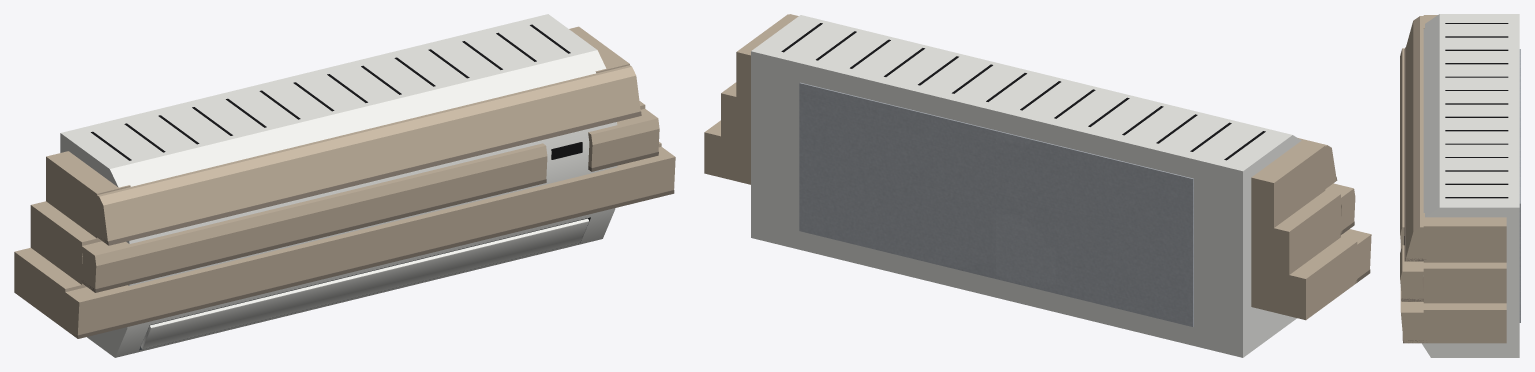
The picture shows the model from 3 angles, left to right: view 1: azimuth 30°, elevation 25°; view 2: azimuth 150°, elevation 25°; view 3: azimuth 270°, elevation 25°; orthographic projection. The views are drawn at different scales.
Parts seen in each view (by area): view 1: wall-ac-body, wall-ac-step-face-3, wall-ac-step-face-1, wall-ac-step-face-2, wall-ac-louver, wall-ac-left-three-step-shoulder, wall-ac-step-reveal-3, wall-ac-step-reveal-1, wall-ac-step-reveal-2, wall-ac-intake, wall-ac-right-three-step-shoulder; view 2: wall-ac-body, wall-ac-mount, wall-ac-left-three-step-shoulder, wall-ac-right-three-step-shoulder, wall-ac-intake, wall-ac-step-face-1, wall-ac-step-face-2; view 3: wall-ac-body, wall-ac-right-three-step-shoulder, wall-ac-step-face-3, wall-ac-step-face-2, wall-ac-intake, wall-ac-step-face-1, wall-ac-mount, wall-ac-step-reveal-3.
Part boxes in pixels (x1,y1,x2,y2): wall-ac-body: (60,14,617,357); wall-ac-step-face-3: (88,65,640,244); wall-ac-step-face-1: (63,147,675,338); wall-ac-step-face-2: (81,109,659,291); wall-ac-louver: (141,218,588,349); wall-ac-left-three-step-shoulder: (14,151,130,329); wall-ac-step-reveal-3: (96,111,641,245); wall-ac-step-reveal-1: (66,190,674,338); wall-ac-step-reveal-2: (82,151,658,292); wall-ac-intake: (91,24,570,160); wall-ac-right-three-step-shoulder: (569,26,661,147); wall-ac-body: (751,15,1301,357); wall-ac-mount: (799,82,1193,326); wall-ac-left-three-step-shoulder: (1251,139,1357,320); wall-ac-right-three-step-shoulder: (704,14,797,184); wall-ac-intake: (781,23,1265,160); wall-ac-step-face-1: (1341,229,1371,283); wall-ac-step-face-2: (1325,183,1355,234); wall-ac-body: (1422,14,1519,357); wall-ac-right-three-step-shoulder: (1423,213,1506,343); wall-ac-step-face-3: (1405,16,1433,261); wall-ac-step-face-2: (1400,48,1423,301); wall-ac-intake: (1445,23,1508,198); wall-ac-step-face-1: (1400,243,1427,343); wall-ac-mount: (1519,49,1520,322); wall-ac-step-reveal-3: (1404,47,1425,261).
Bounding box in the file's own units: 0.978 × 0.2905 × 0.211.
8 materials, 4 textured.
